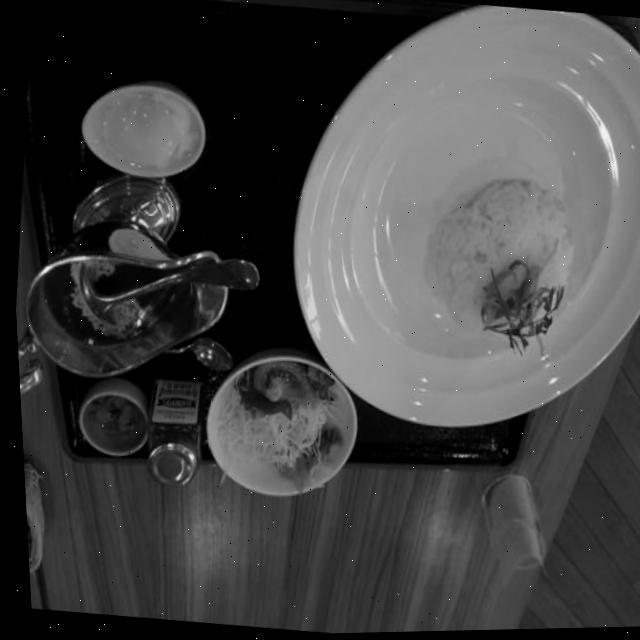米饭主食: (408, 175, 588, 375)
蔬菜料理: (193, 336, 370, 521)
